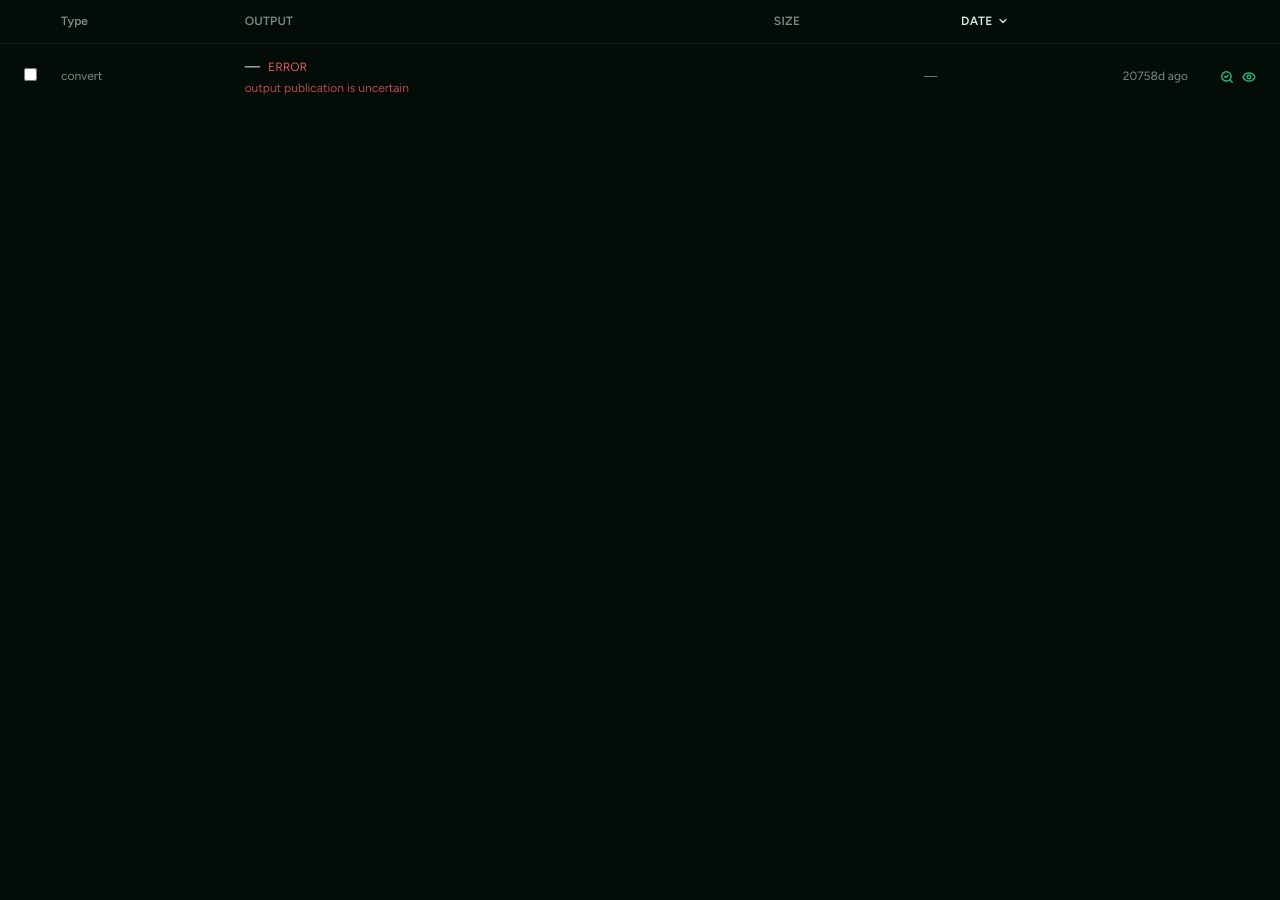
Test case: HistoryList verified publication review › recovers only after confirmation, then refreshes History and Queue
Click the button named "review uncertain publication" at [1227, 77], box [1220,70,1234,84]
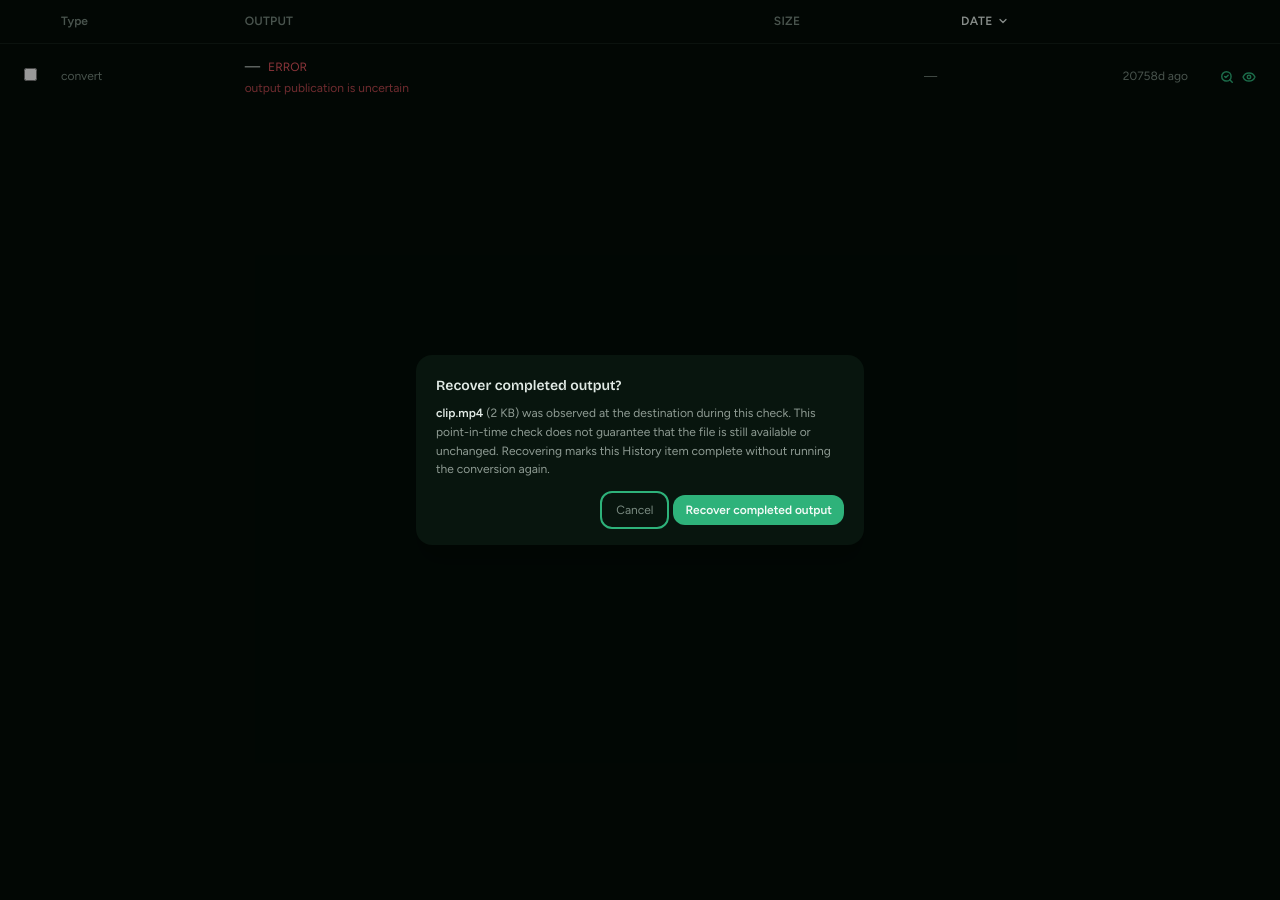
Click the button "Recover completed output" at [759, 510], box [674,495,844,525]
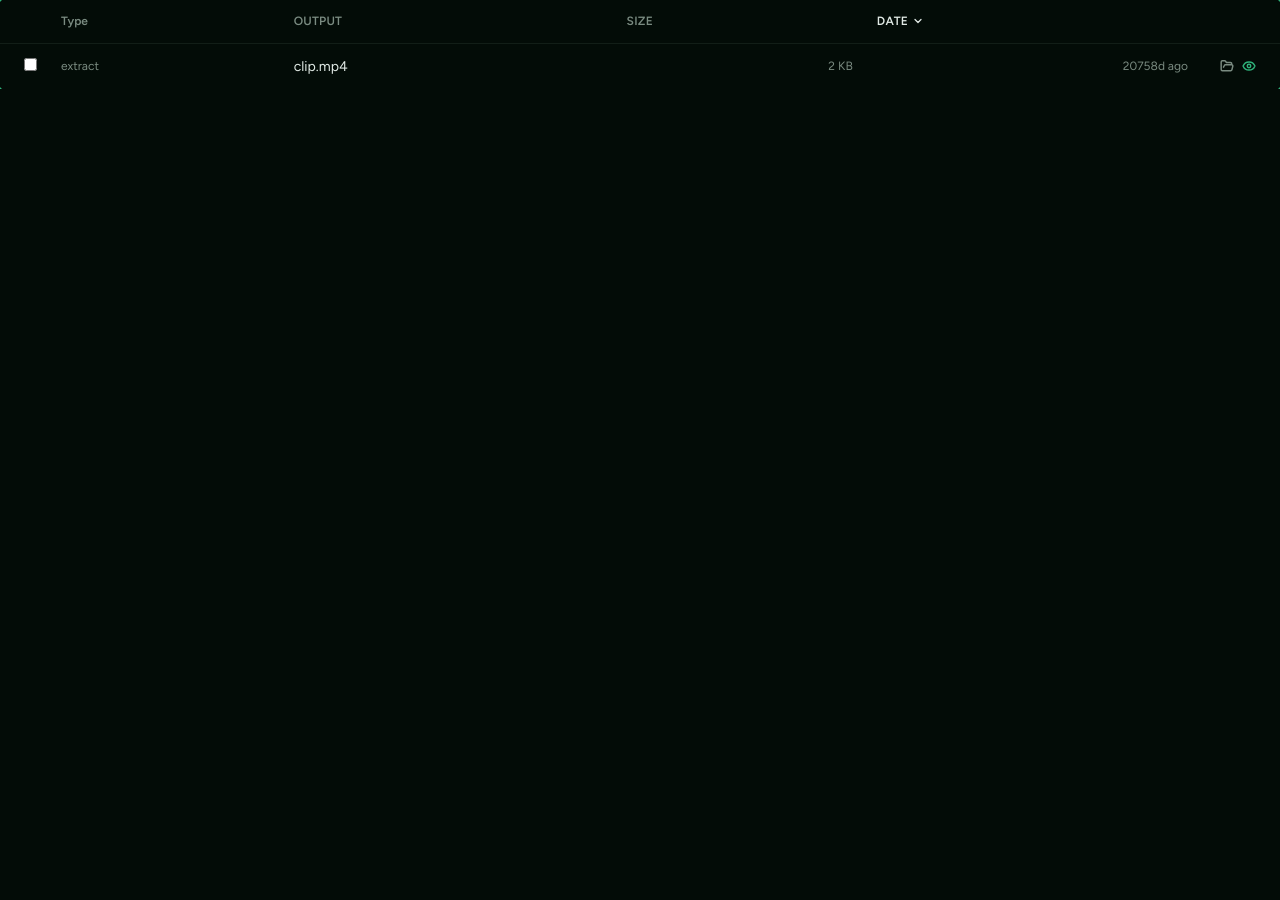
expect the dialog is gone: met
